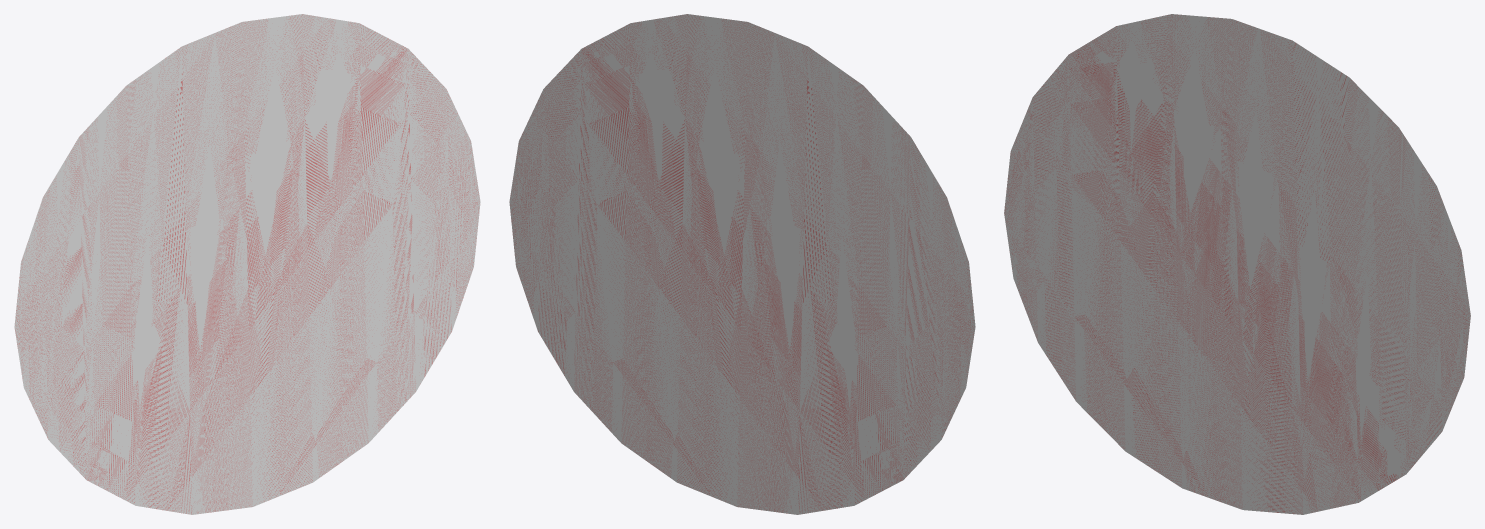
Rendered from original-103.obj.
3 renders of one model, left to right at view 1: azimuth 30°, elevation 25°; view 2: azimuth 150°, elevation 25°; view 3: azimuth 330°, elevation 25°, orthographic.
Visible parts, largest first — view 1: Group11/mesh12/mesh12-geometry/material_2/component_0#mesh12-geo; view 2: Group11/mesh12/mesh12-geometry/material_2/component_0#mesh12-geo; view 3: Group11/mesh12/mesh12-geometry/material_2/component_0#mesh12-geo.
Part boxes in pixels (left/top/right/bottom): Group11/mesh12/mesh12-geometry/material_2/component_0#mesh12-geo: left=14, top=14, right=480, bottom=514; Group11/mesh12/mesh12-geometry/material_2/component_0#mesh12-geo: left=509, top=14, right=975, bottom=514; Group11/mesh12/mesh12-geometry/material_2/component_0#mesh12-geo: left=1004, top=14, right=1470, bottom=514.
Bounding box in the file's own units: 0.025 × 0.025 × 0.
